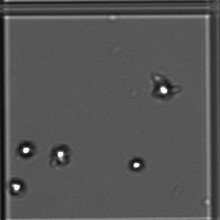Living Cell: (148, 69, 183, 103), (123, 151, 151, 180), (46, 140, 74, 169), (11, 134, 39, 163), (3, 173, 31, 202)
